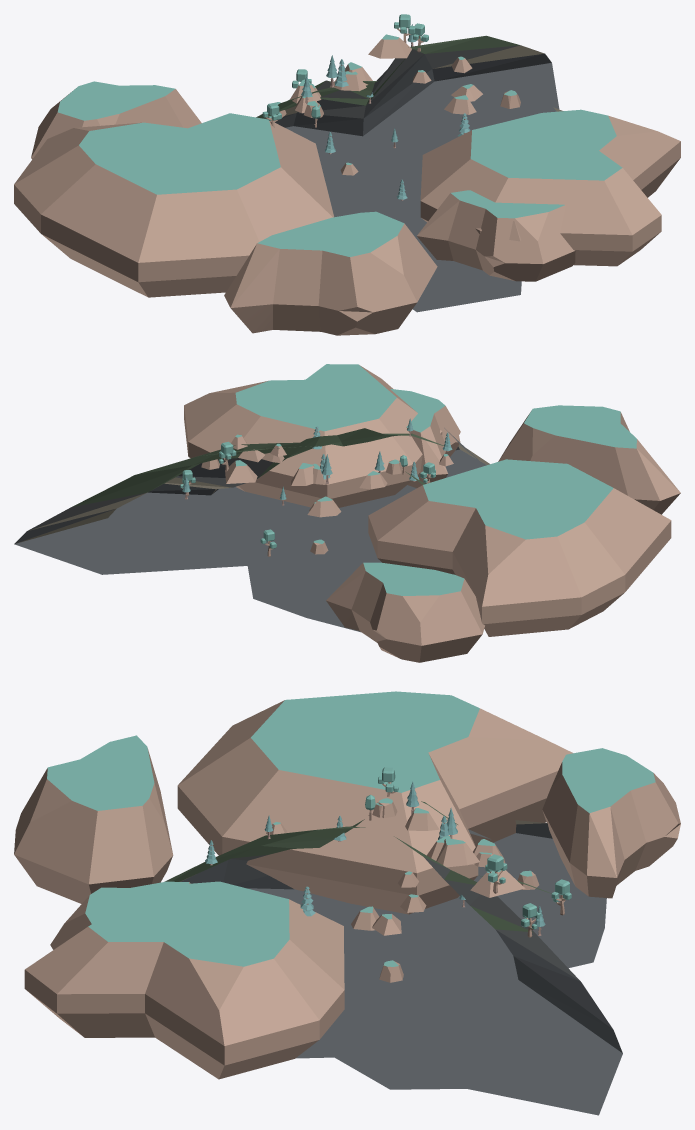
Rendered from haven_lod0.glb.
The picture shows the model from 3 angles, top to bottom: view 1: azimuth 30°, elevation 25°; view 2: azimuth 150°, elevation 25°; view 3: azimuth 270°, elevation 25°; orthographic projection. The views are drawn at different scales.
Size of the model in its own units: 3.13 by 0.6737 by 2.58.
